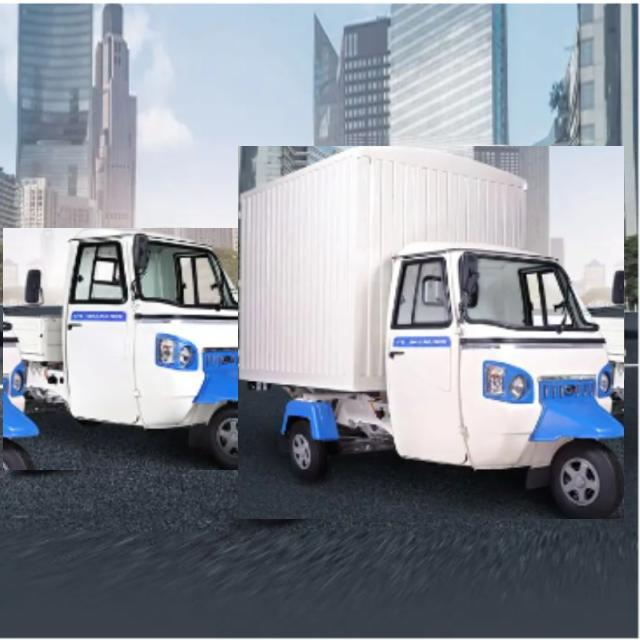autorickshaw: (239, 146, 624, 519), (4, 228, 272, 470)
